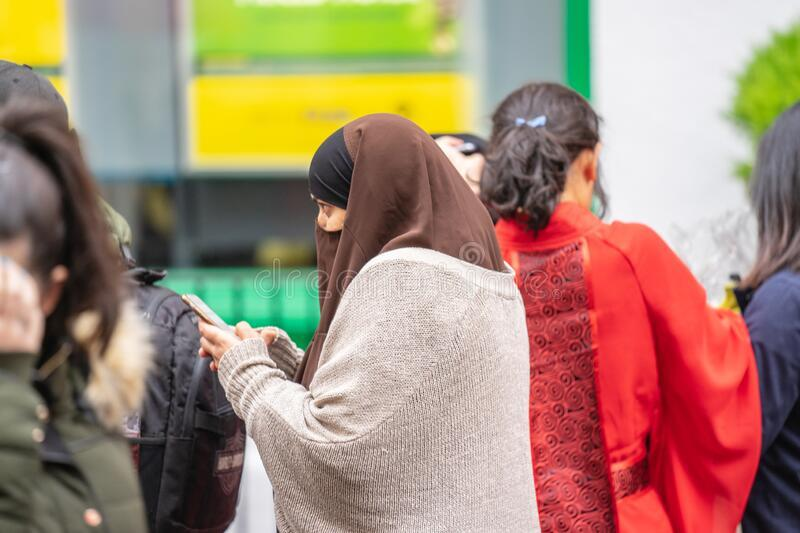No Mask: (293, 154, 387, 294)
